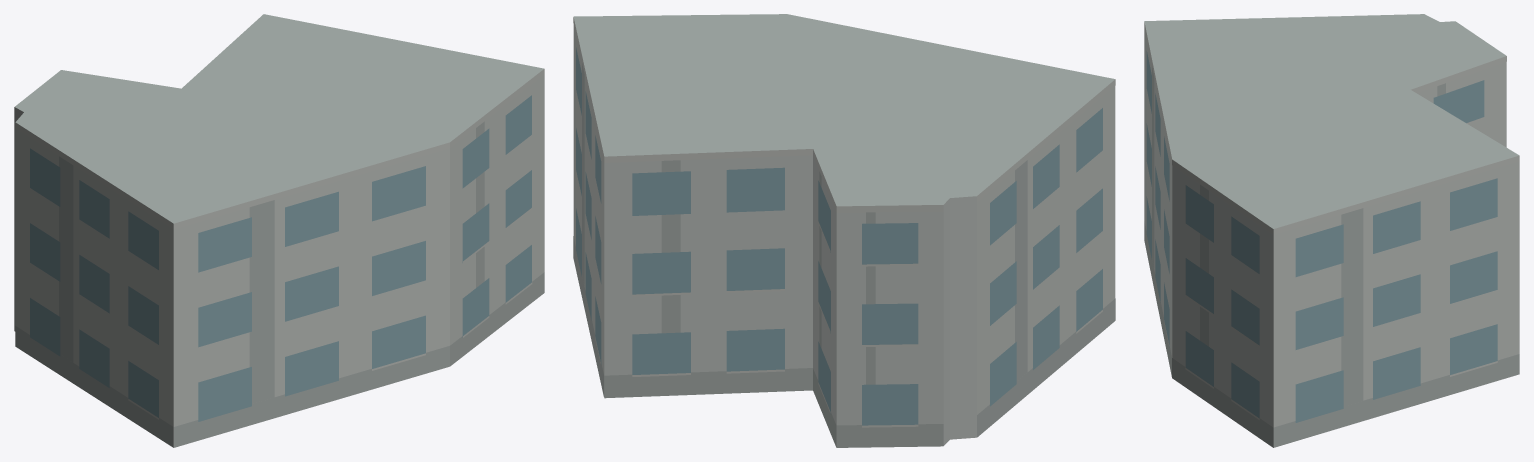
File: survey-upis-32582002.glb
3 renders of one model, left to right at view 1: azimuth 30°, elevation 25°; view 2: azimuth 150°, elevation 25°; view 3: azimuth 270°, elevation 25°, orthographic. The views are drawn at different scales.
Parts seen in each view (by area): view 1: survey-upis-32582002.tmp; view 2: survey-upis-32582002.tmp; view 3: survey-upis-32582002.tmp.
Part boxes in pixels (x1,y1,x2,y2): survey-upis-32582002.tmp: [14, 14, 544, 447]; survey-upis-32582002.tmp: [573, 14, 1115, 447]; survey-upis-32582002.tmp: [1144, 14, 1519, 447].
Bounding box in the file's own units: 19.3 × 9.15 × 14.24.
